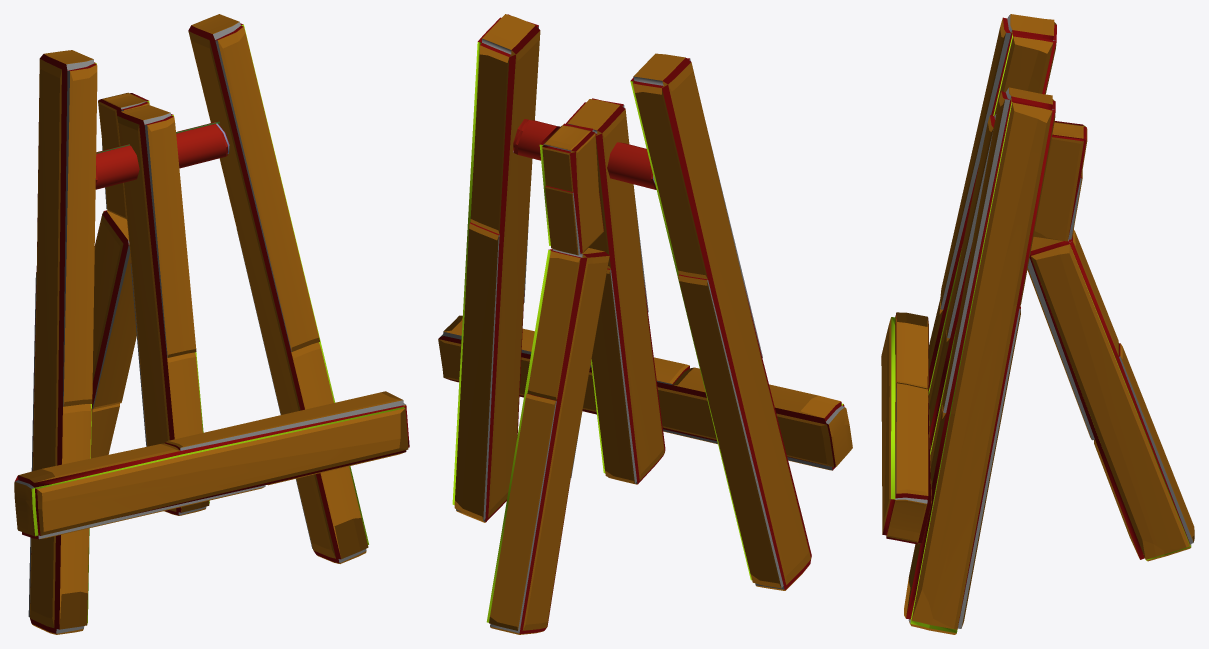
The model's file is canvasunauv.fbx.
3 renders of one model, left to right at view 1: azimuth 30°, elevation 25°; view 2: azimuth 150°, elevation 25°; view 3: azimuth 270°, elevation 25°, orthographic. The views are drawn at different scales.
Visible parts, largest first — view 1: PALO1, PALO2, PALO4, PALO3, PALO5, Cylinder001, PALO006; view 2: PALO1, PALO2, PALO5, PALO3, PALO4, PALO006, Cylinder001; view 3: PALO2, PALO5, PALO4, PALO1, PALO006, PALO3.
Boxes of the visible parts, bbox=[...] form: PALO1: bbox=[28, 50, 97, 634]; PALO2: bbox=[188, 14, 368, 563]; PALO4: bbox=[14, 391, 409, 539]; PALO3: bbox=[117, 105, 209, 515]; PALO5: bbox=[91, 210, 136, 458]; Cylinder001: bbox=[95, 121, 229, 189]; PALO006: bbox=[98, 92, 149, 219]; PALO1: bbox=[630, 53, 811, 590]; PALO2: bbox=[452, 14, 540, 522]; PALO5: bbox=[486, 248, 609, 634]; PALO3: bbox=[566, 98, 665, 484]; PALO4: bbox=[438, 315, 852, 470]; PALO006: bbox=[539, 123, 603, 255]; Cylinder001: bbox=[513, 119, 656, 189]; PALO2: bbox=[904, 87, 1055, 634]; PALO5: bbox=[1027, 229, 1194, 561]; PALO4: bbox=[881, 312, 931, 544]; PALO1: bbox=[928, 14, 1056, 405]; PALO006: bbox=[1033, 121, 1087, 241]; PALO3: bbox=[929, 114, 996, 466].
Size of the model in its own units: 175 by 232 by 130.
